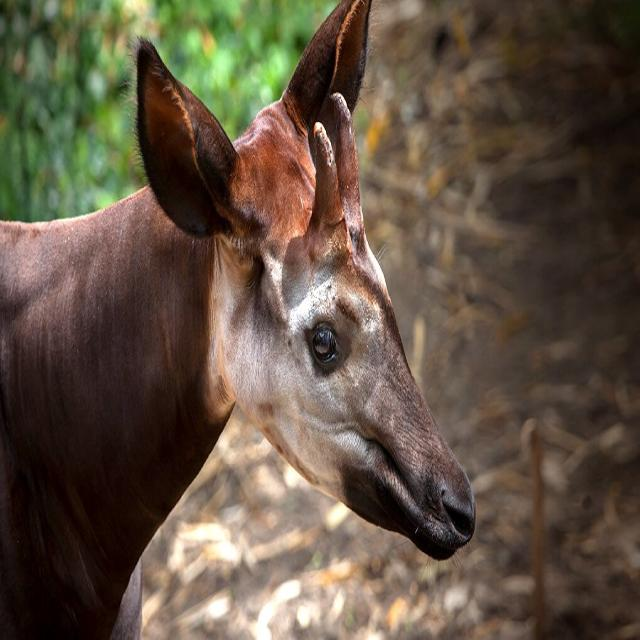Okapi: (0, 0, 483, 640)
